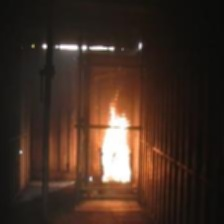fire: (95, 101, 140, 190)
